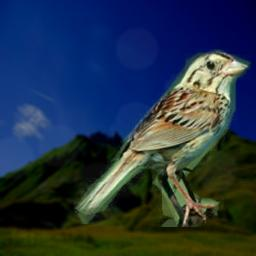Sparrow: (72, 49, 251, 227)
